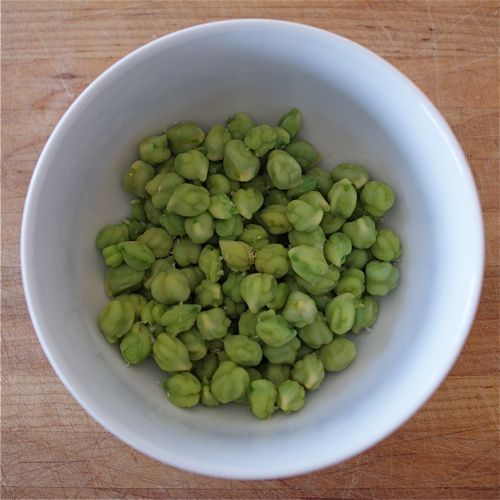boiled peas: (101, 131, 372, 400)
